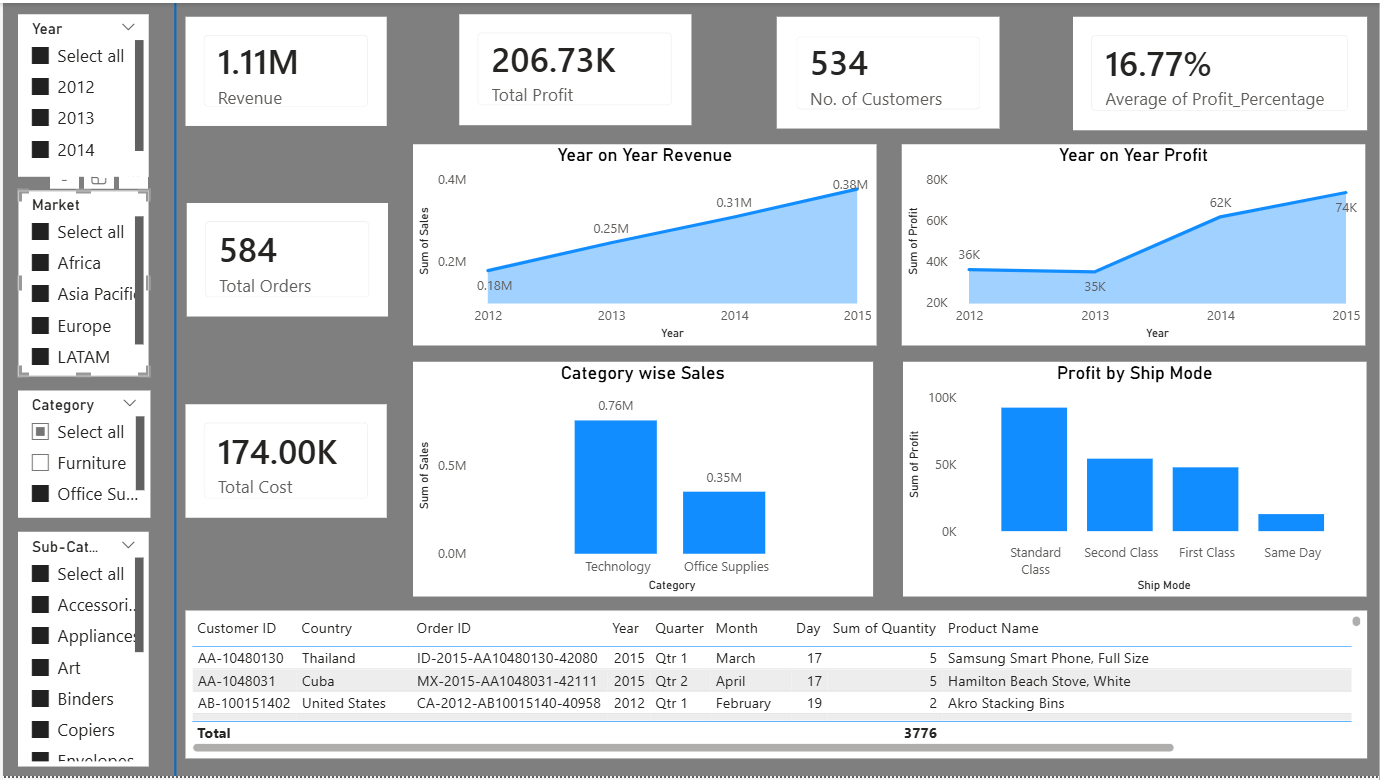

This screenshot's page, from the dashboard's own definition file:
{"tool":"powerbi","page":{"name":"Page 1","canvas":[1280,720],"ordinal":0},"visuals":[{"type":"slicer","fields":{"Values":["Global_Superstore(CSV).Market"]},"box":[14.3,174.3,121.4,172.9],"z":0},{"type":"slicer","fields":{"Values":["Global_Superstore(CSV).Order Date.Variation.Date Hierarchy.Year"]},"box":[14.3,10,121.4,151.4],"z":1000},{"type":"slicer","fields":{"Values":["Global_Superstore(CSV).Sub-Category"]},"box":[14.3,491.4,121.4,218.6],"z":2000},{"type":"shape","box":[135.7,0,48.6,720],"z":3000},{"type":"cardVisual","fields":{"Data":["Global_Superstore(CSV).Revenue"]},"box":[170,12.9,187.1,101.4],"z":4000},{"type":"cardVisual","fields":{"Data":["Global_Superstore(CSV).Total Profit"]},"box":[424.3,10,215.7,102.9],"z":5000},{"type":"cardVisual","fields":{"Data":["Global_Superstore(CSV).No. of Customers"]},"box":[720,12.9,207.1,104.3],"z":6000},{"type":"cardVisual","fields":{"Data":["Global_Superstore(CSV).Total Orders"]},"box":[171.4,185.7,187.1,105.7],"z":7000},{"type":"cardVisual","fields":{"Data":["Global_Superstore(CSV).Total Cost"]},"box":[170,372.9,187.1,105.7],"z":8000},{"type":"cardVisual","fields":{"Data":["Avg(Global_Superstore(CSV).Profit_Percentage)"]},"box":[995.4,12.8,273.3,105.8],"z":9000},{"type":"slicer","fields":{"Values":["Global_Superstore(CSV).Category"]},"box":[14.3,360,122.9,118.6],"z":10000},{"type":"areaChart","title":"Year on Year Revenue","fields":{"Category":["Global_Superstore(CSV).Order Date.Variation.Date Hierarchy.Year"],"Y":["Sum(Global_Superstore(CSV).Sales)"]},"box":[381.4,131.4,431.4,187.1],"z":11000},{"type":"areaChart","title":"Year on Year Profit","fields":{"Category":["Global_Superstore(CSV).Order Date.Variation.Date Hierarchy.Year"],"Y":["Sum(Global_Superstore(CSV).Profit)"]},"box":[836,131.4,431.4,187.2],"z":12000},{"type":"columnChart","title":"Category wise Sales","fields":{"Category":["Global_Superstore(CSV).Category"],"Y":["Sum(Global_Superstore(CSV).Sales)"]},"box":[381.4,333.7,427.9,218.6],"z":13000},{"type":"columnChart","title":"Profit by Ship Mode","fields":{"Category":["Global_Superstore(CSV).Ship Mode"],"Y":["Sum(Global_Superstore(CSV).Profit)"]},"box":[837.1,334.3,431.4,218.6],"z":14000},{"type":"tableEx","fields":{"Values":["Global_Superstore(CSV).Customer ID","Global_Superstore(CSV).Country","Global_Superstore(CSV).Order ID","Global_Superstore(CSV).Order Date.Variation.Date Hierarchy.Year","Global_Superstore(CSV).Order Date.Variation.Date Hierarchy.Quarter","Global_Superstore(CSV).Order Date.Variation.Date Hierarchy.Month","Global_Superstore(CSV).Order Date.Variation.Date Hierarchy.Day","Sum(Global_Superstore(CSV).Quantity)","Global_Superstore(CSV).Product Name","Global_Superstore(CSV).Category"]},"box":[169.8,565.1,1098.8,137.2],"z":15000}]}

Visuals, with their boxes in screenshot pixels (x1, y1, x2, y2):
slicer - Global_Superstore(CSV).Market: BBox(15, 189, 144, 373)
slicer - Global_Superstore(CSV).Order Date.Variation.Date Hierarchy.Year: BBox(15, 14, 144, 175)
slicer - Global_Superstore(CSV).Sub-Category: BBox(15, 526, 144, 758)
shape: BBox(144, 4, 196, 769)
cardVisual - Global_Superstore(CSV).Revenue: BBox(181, 17, 380, 125)
cardVisual - Global_Superstore(CSV).Total Profit: BBox(451, 14, 680, 124)
cardVisual - Global_Superstore(CSV).No. of Customers: BBox(766, 17, 986, 128)
cardVisual - Global_Superstore(CSV).Total Orders: BBox(182, 201, 381, 313)
cardVisual - Global_Superstore(CSV).Total Cost: BBox(181, 400, 380, 512)
cardVisual - Avg(Global_Superstore(CSV).Profit_Percentage): BBox(1058, 17, 1349, 130)
slicer - Global_Superstore(CSV).Category: BBox(15, 386, 146, 512)
"Year on Year Revenue" areaChart: BBox(406, 143, 864, 342)
"Year on Year Profit" areaChart: BBox(889, 143, 1348, 342)
"Category wise Sales" columnChart: BBox(406, 358, 860, 591)
"Profit by Ship Mode" columnChart: BBox(890, 359, 1349, 591)
tableEx - Global_Superstore(CSV).Customer ID x Global_Superstore(CSV).Country: BBox(181, 604, 1349, 750)
